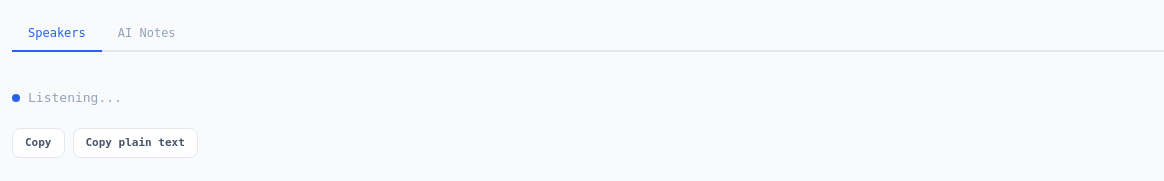
Test: result notes update from automatic saved-session changes
Click the button "AI Notes": {"x": 147, "y": 34} left=102, top=16, right=192, bottom=52
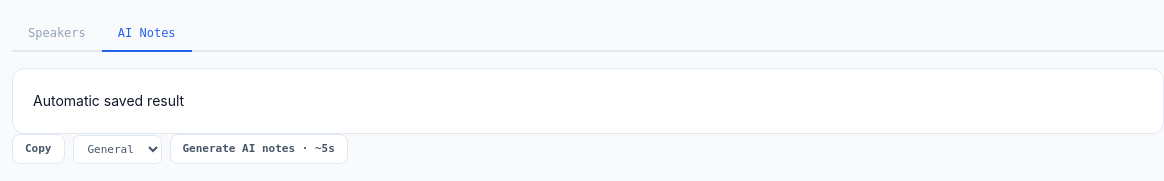
Result: the text "Automatic saved result" is shown at left=12, top=68, right=1163, bottom=134
